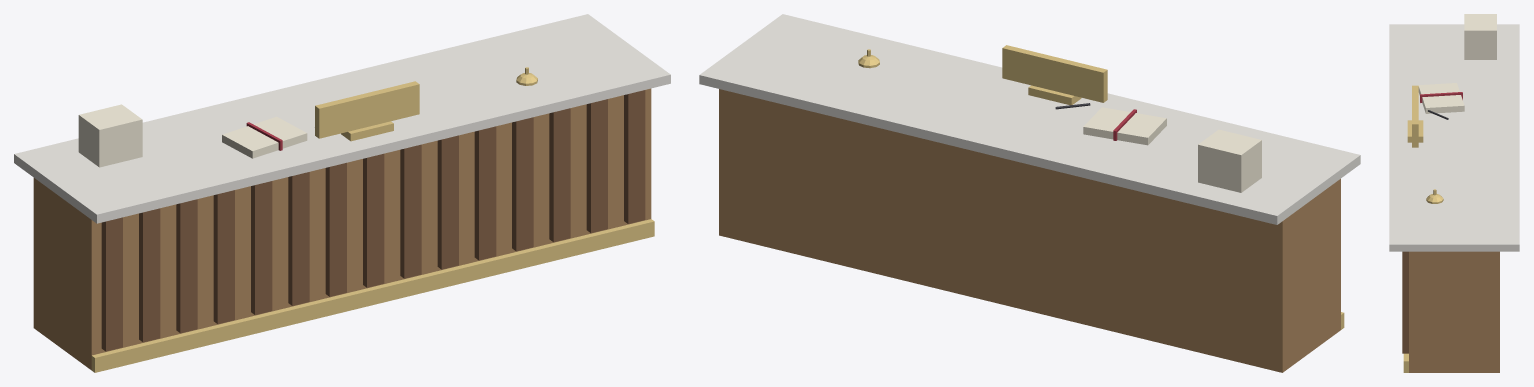
Rendered from HJ_Mostrador.fbx.
3 views of the same model, side by side, from view 1: azimuth 30°, elevation 25°; view 2: azimuth 150°, elevation 25°; view 3: azimuth 270°, elevation 25° (orthographic). The views are drawn at different scales.
Parts seen in each view (by area): view 1: HJ_Mostrador; view 2: HJ_Mostrador; view 3: HJ_Mostrador.
Boxes of the visible parts, x1=… form: HJ_Mostrador: x1=14, y1=14, x2=670, y2=372; HJ_Mostrador: x1=699, y1=14, x2=1360, y2=372; HJ_Mostrador: x1=1389, y1=14, x2=1519, y2=372.
Size of the model in its own units: 4 by 1.36 by 1.
